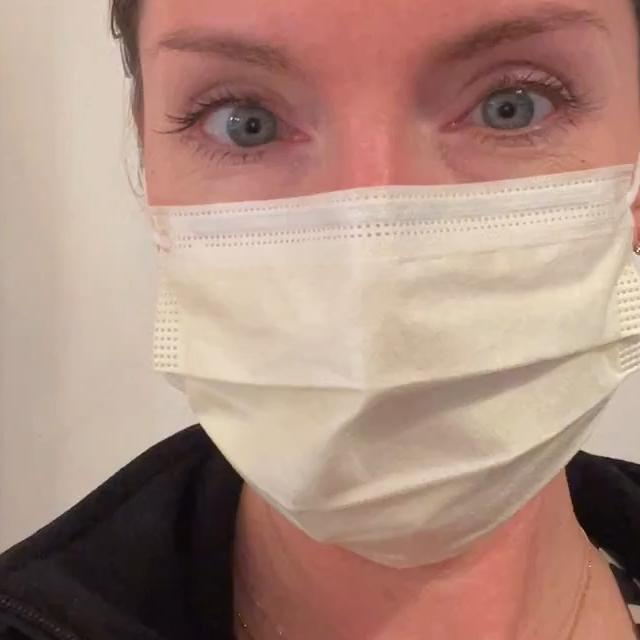Mask: (124, 101, 640, 567)
NO-Safety Vest: (0, 503, 640, 640)
Person: (0, 0, 640, 640)
